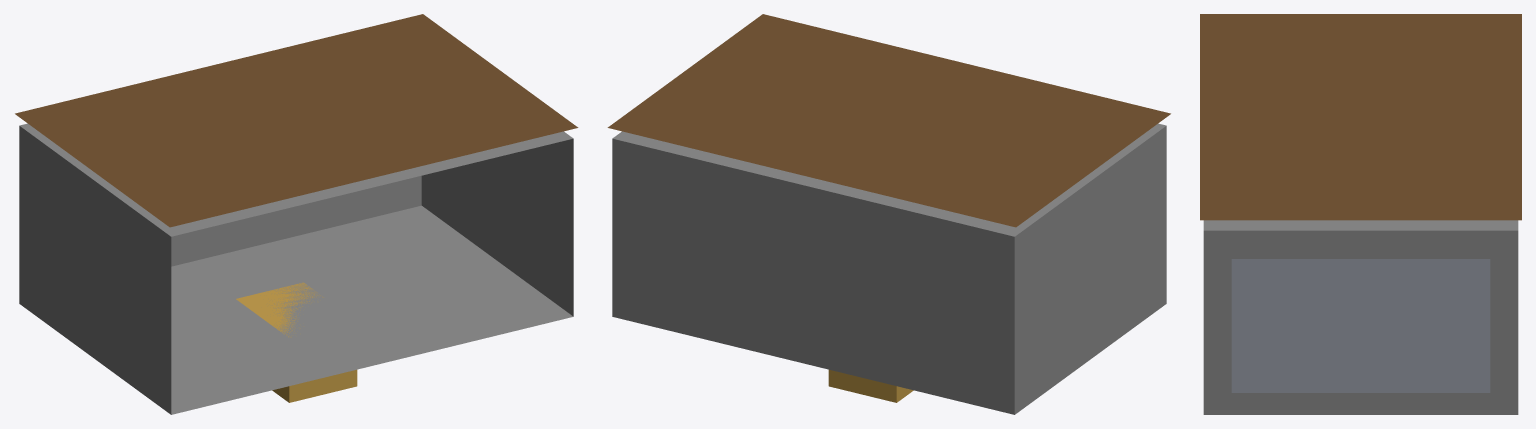
The model's file is motion_simulator.obj.
The picture shows the model from 3 angles, left to right: view 1: azimuth 30°, elevation 25°; view 2: azimuth 150°, elevation 25°; view 3: azimuth 270°, elevation 25°; orthographic projection. The views are drawn at different scales.
Bounding box in the file's own units: 2.66 × 1.57 × 1.74.
